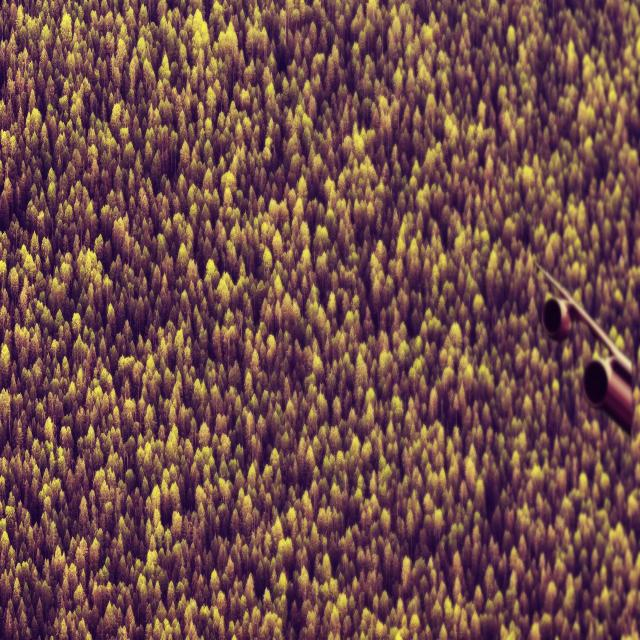airplane: (533, 258, 635, 437)
